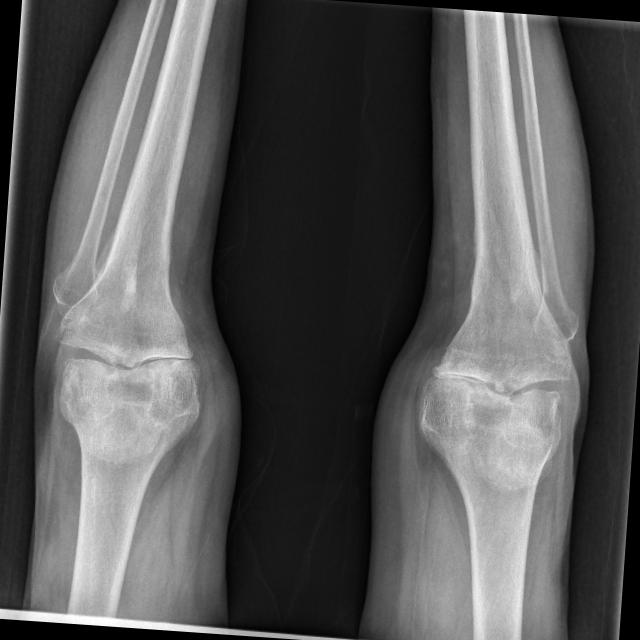Knee: (412, 317, 576, 453), (47, 292, 205, 432)
